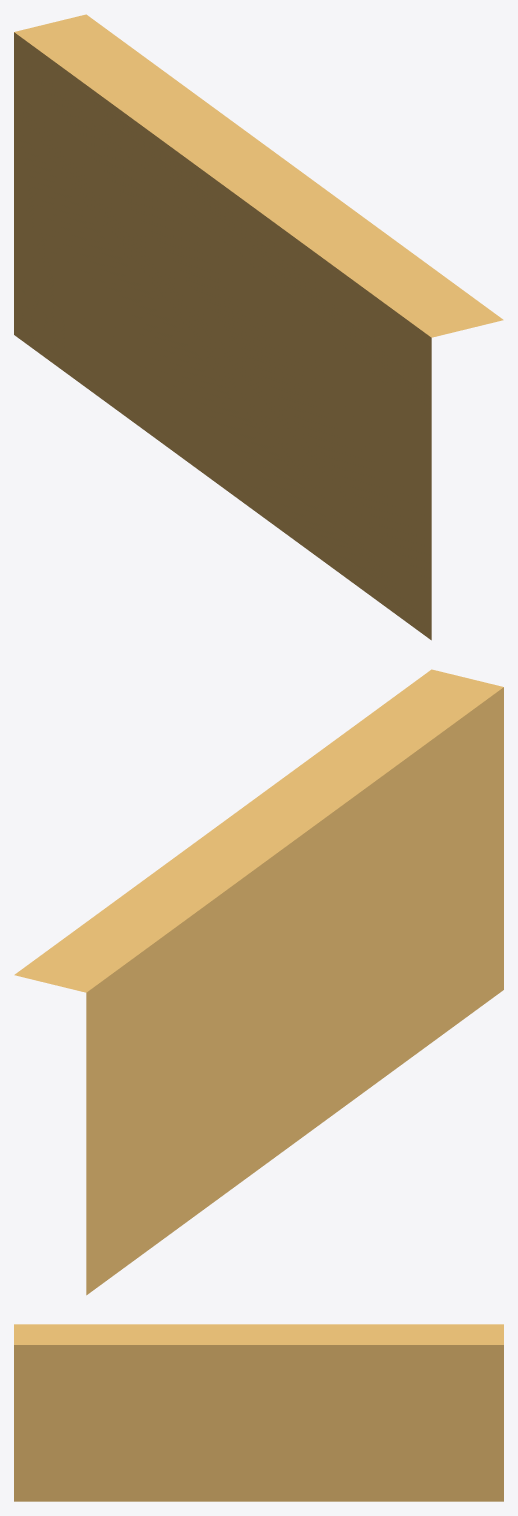
3 renders of one model, top to bottom at view 1: azimuth 30°, elevation 25°; view 2: azimuth 150°, elevation 25°; view 3: azimuth 270°, elevation 25°, orthographic. The views are drawn at different scales.
Size of the model in its own units: 0.1 by 0.4 by 1.
